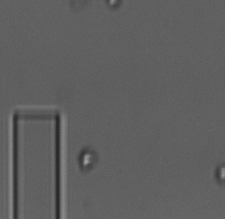Living Cell: (78, 145, 98, 172), (103, 1, 123, 12)
